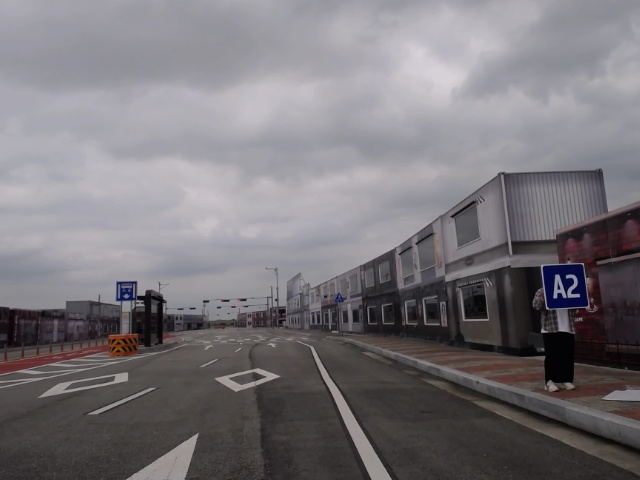delivery_a2: (541, 264, 589, 310)
